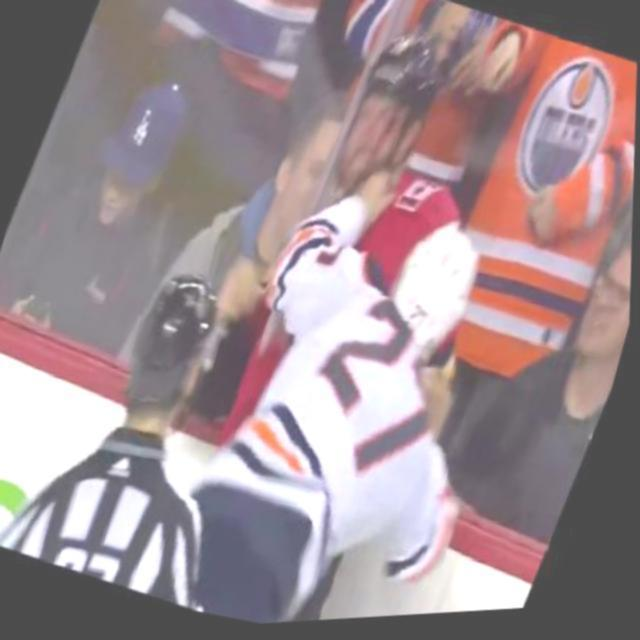fight: (158, 0, 640, 632)
